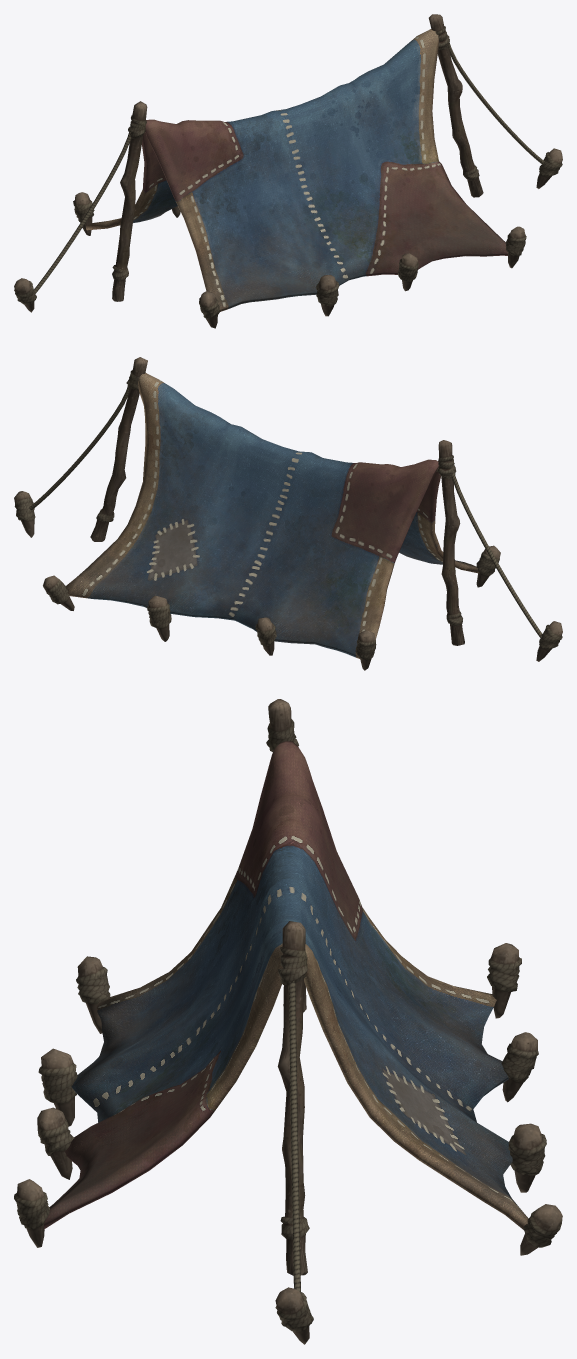
File: MSH_fwOF_Tent_02_LOD0.fbx
The picture shows the model from 3 angles, top to bottom: view 1: azimuth 30°, elevation 25°; view 2: azimuth 150°, elevation 25°; view 3: azimuth 270°, elevation 25°; orthographic projection. The views are drawn at different scales.
Parts seen in each view (by area): view 1: MSH_fwOF_Tent_02_LOD0, MSH_fwOF_Tent_02.001_LOD0; view 2: MSH_fwOF_Tent_02_LOD0, MSH_fwOF_Tent_02.001_LOD0; view 3: MSH_fwOF_Tent_02_LOD0, MSH_fwOF_Tent_02.001_LOD0.
Boxes of the visible parts, bbox=[...] form: MSH_fwOF_Tent_02_LOD0: bbox=[86, 14, 507, 311]; MSH_fwOF_Tent_02.001_LOD0: bbox=[14, 43, 562, 328]; MSH_fwOF_Tent_02_LOD0: bbox=[66, 357, 479, 658]; MSH_fwOF_Tent_02.001_LOD0: bbox=[14, 387, 562, 670]; MSH_fwOF_Tent_02_LOD0: bbox=[44, 699, 528, 1275]; MSH_fwOF_Tent_02.001_LOD0: bbox=[14, 943, 562, 1344].
Size of what is drawn, in the model's own units: 6.44 by 2.35 by 3.38.
